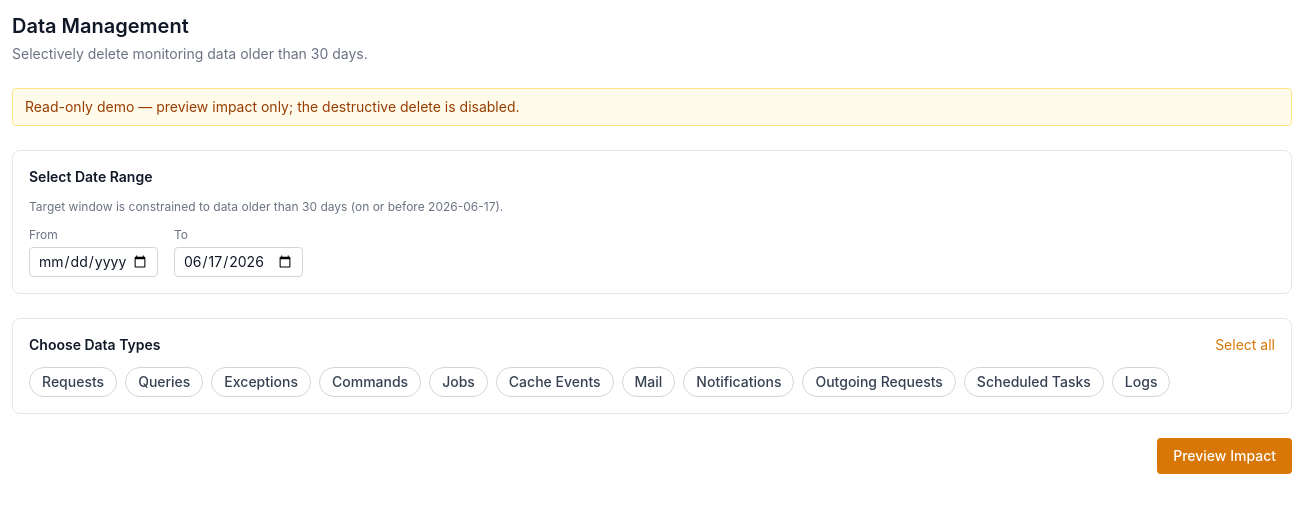
Scenario: DataManagementPage › validates that at least one data type must be selected
The width and height of the screenshot is (1304, 523).
Click the button "Preview Impact": coordinates (1225, 456) [1157,438,1292,474]
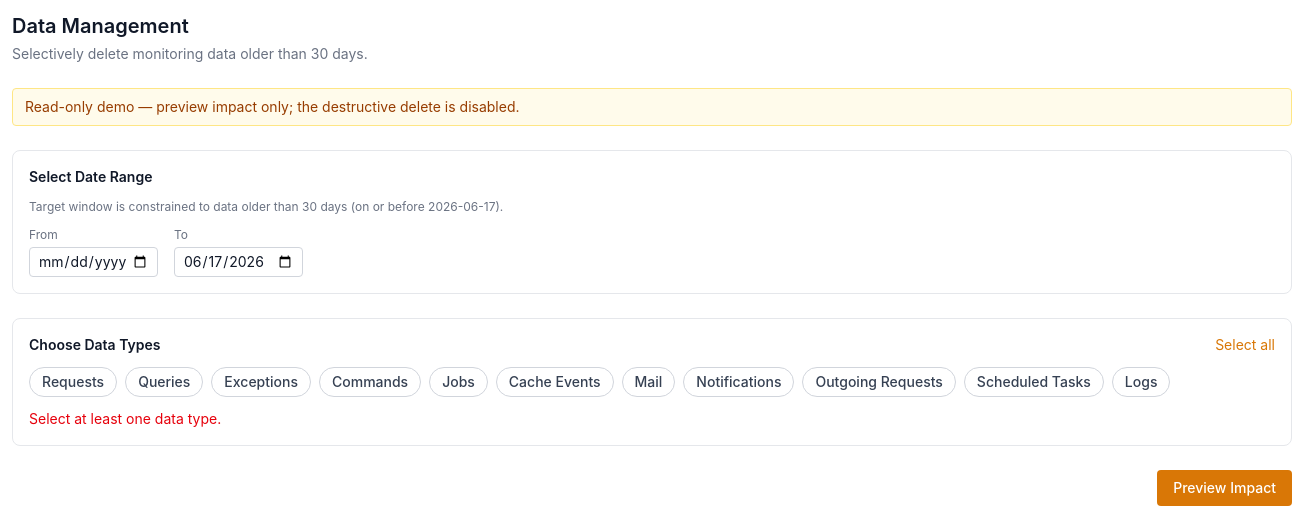
Expected: the text "Select at least one data type." is shown, [29,410,221,427]
